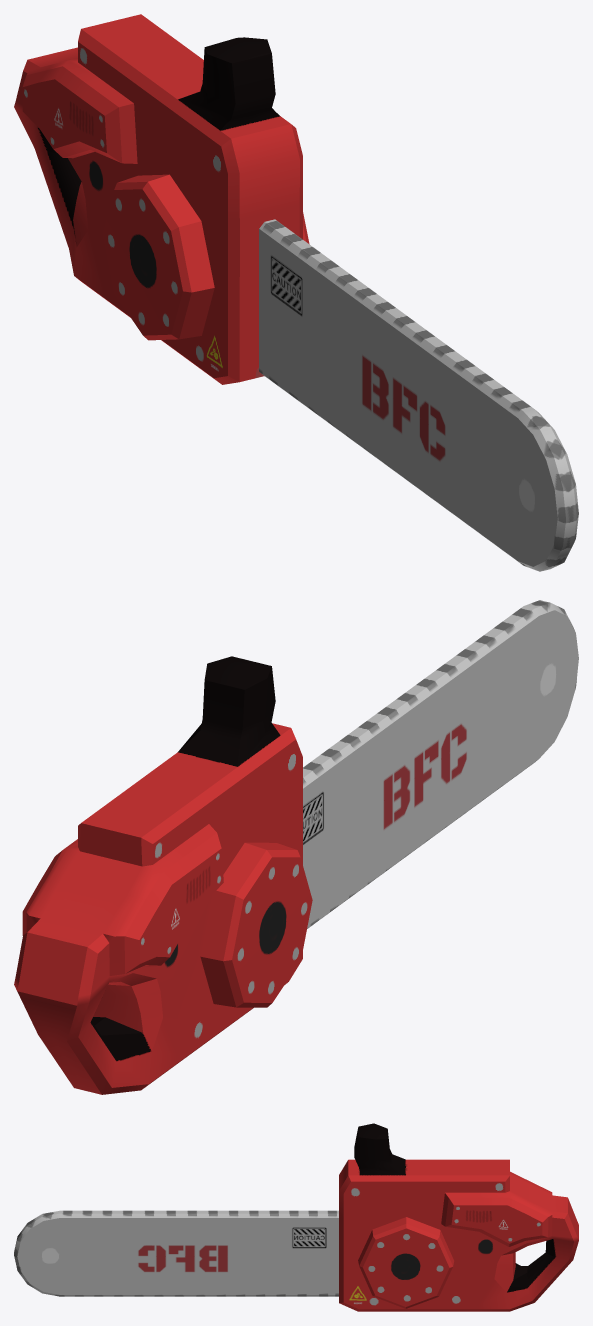
Rendered from SM_Chainsaw.fbx.
3 renders of one model, top to bottom at view 1: azimuth 30°, elevation 25°; view 2: azimuth 150°, elevation 25°; view 3: azimuth 270°, elevation 25°, orthographic. The views are drawn at different scales.
Parts seen in each view (by area): view 1: SM_Chainsaw; view 2: SM_Chainsaw; view 3: SM_Chainsaw.
Part boxes in pixels (x1,y1,x2,y2): SM_Chainsaw: (14, 14, 578, 571); SM_Chainsaw: (14, 600, 578, 1094); SM_Chainsaw: (14, 1123, 578, 1311).
Size of the model in its own units: 5.19 by 36.34 by 12.55.
1 material, 1 textured.
